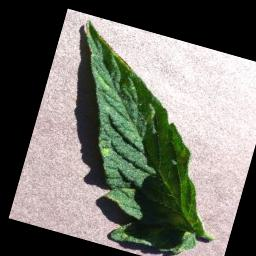Leaf_Mold: (93, 35, 137, 70), (99, 144, 112, 159)
